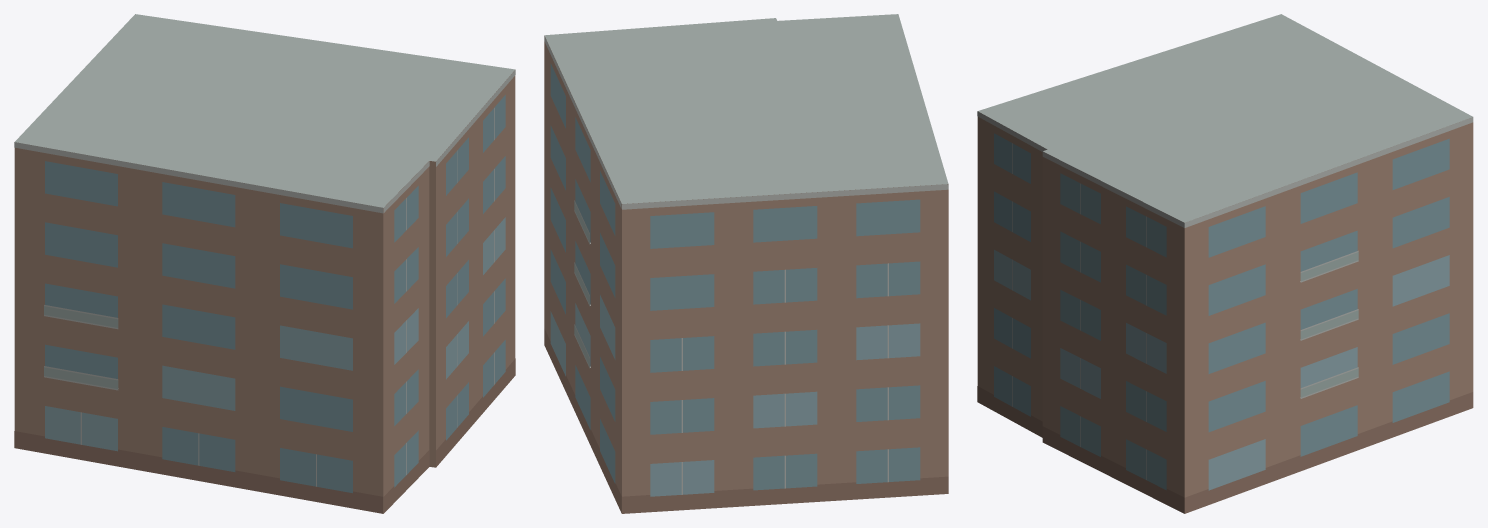
File: survey-upis-32915740.glb
3 renders of one model, left to right at view 1: azimuth 30°, elevation 25°; view 2: azimuth 150°, elevation 25°; view 3: azimuth 270°, elevation 25°, orthographic. The views are drawn at different scales.
Parts seen in each view (by area): view 1: survey-upis-32915740.tmp; view 2: survey-upis-32915740.tmp; view 3: survey-upis-32915740.tmp.
Boxes of the visible parts, x1,y1,x2,y2 form: survey-upis-32915740.tmp: (14,14,515,513); survey-upis-32915740.tmp: (544,14,948,513); survey-upis-32915740.tmp: (977,14,1473,513).
Size of the model in its own units: 20.56 by 13.35 by 20.62.
